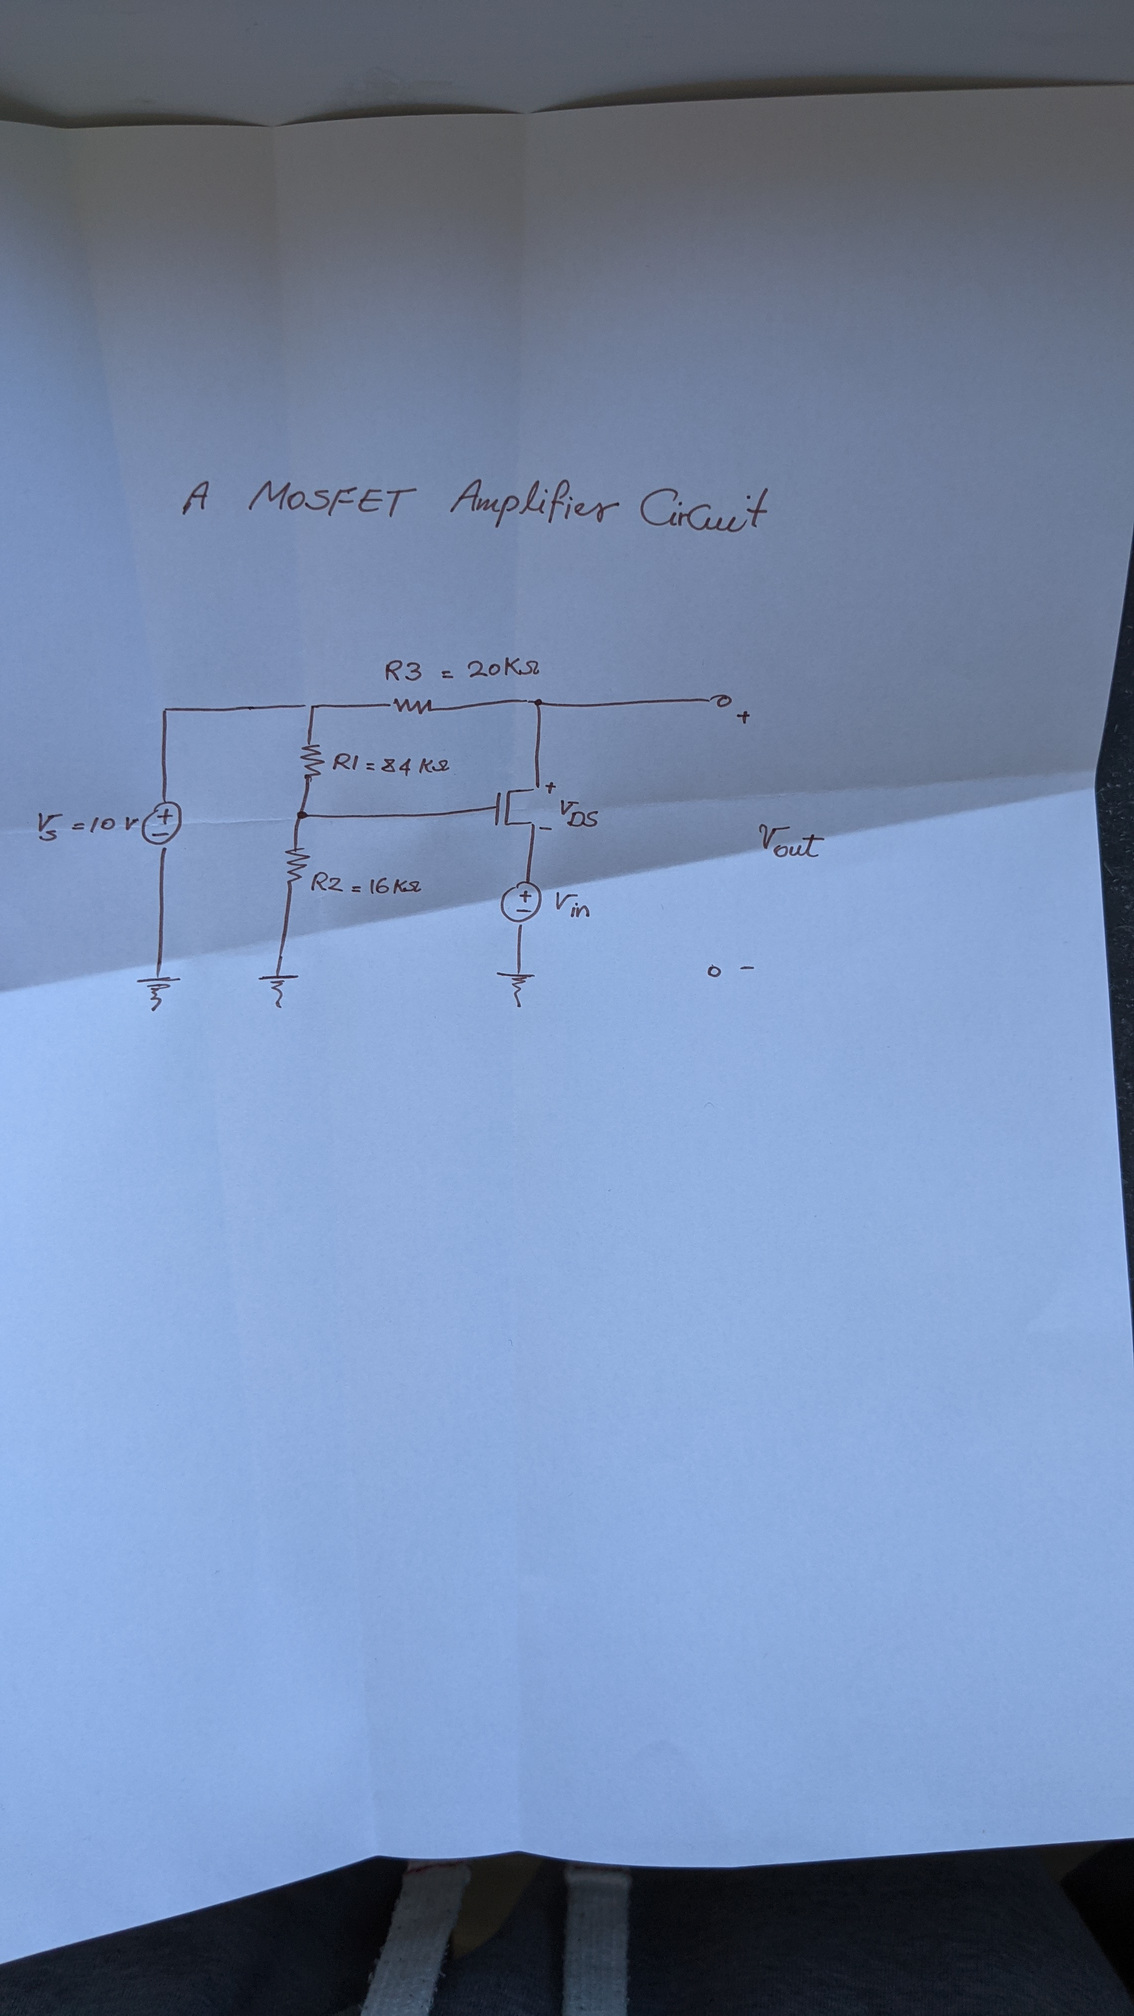gnd: (134, 972, 183, 1014), (494, 968, 537, 1009), (256, 971, 300, 1011)
junction: (294, 807, 312, 822), (530, 696, 547, 709), (300, 701, 318, 712), (159, 703, 172, 716)
resistor: (298, 739, 327, 784), (282, 845, 312, 886), (385, 695, 438, 717)
terminal: (703, 692, 734, 710), (705, 962, 724, 979)
text: (179, 474, 771, 537), (384, 654, 541, 684), (35, 810, 140, 843), (330, 750, 451, 778), (309, 870, 424, 896), (756, 821, 827, 861), (557, 798, 600, 829), (552, 889, 593, 919), (735, 708, 752, 726), (737, 962, 759, 973), (543, 780, 558, 795), (537, 822, 557, 834)
transistor: (492, 781, 543, 828)
voltage.dc: (140, 799, 186, 850), (498, 879, 546, 928)
